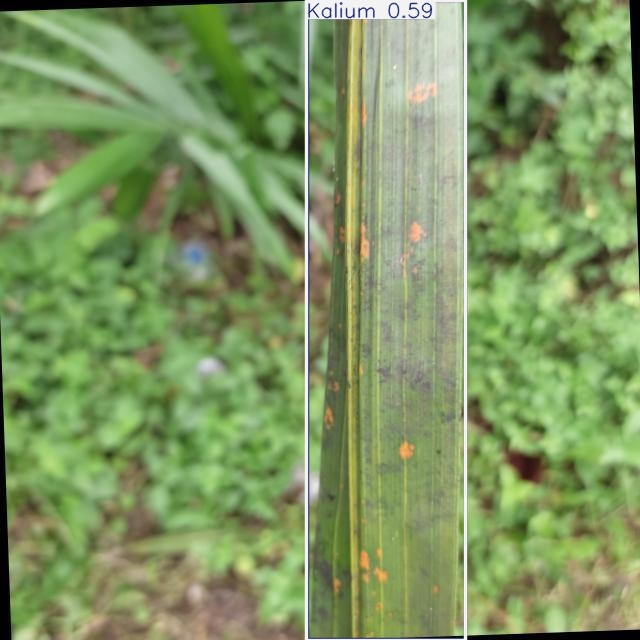Kalium: (307, 0, 466, 640)
nitrogen: (307, 0, 465, 640)
